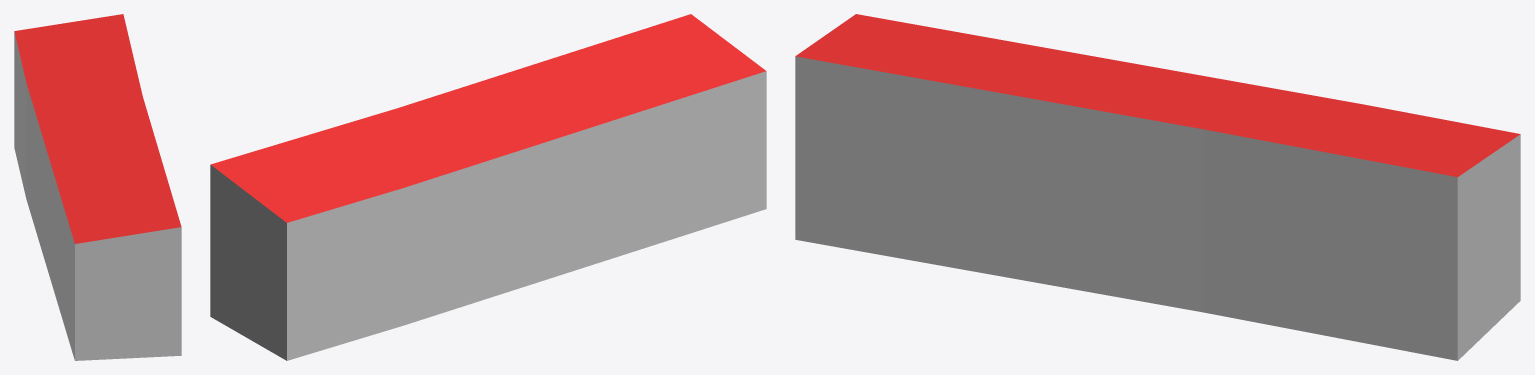
The model's file is DEBY_LOD2_4908172.dae.
3 renders of one model, left to right at view 1: azimuth 30°, elevation 25°; view 2: azimuth 150°, elevation 25°; view 3: azimuth 270°, elevation 25°, orthographic. The views are drawn at different scales.
Bounding box in the file's own units: 8.07 × 13.71 × 3.83.
